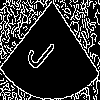J: (25, 25, 62, 74)
